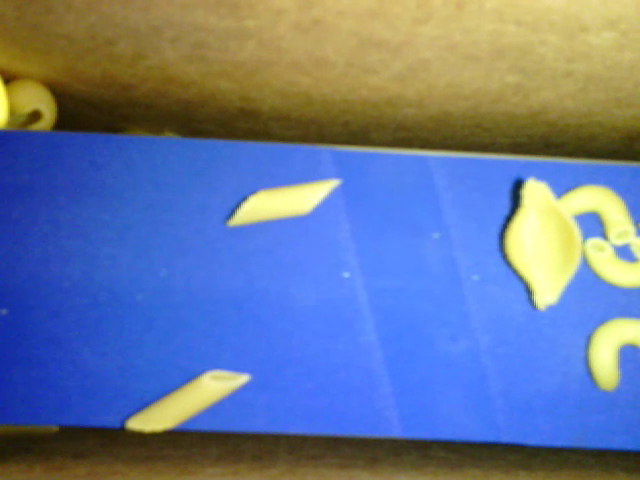elbow: (554, 175, 636, 244), (586, 307, 638, 392), (586, 233, 638, 299)
penne: (121, 368, 253, 435), (225, 177, 342, 229)
shell: (494, 177, 585, 312), (4, 75, 55, 133)
